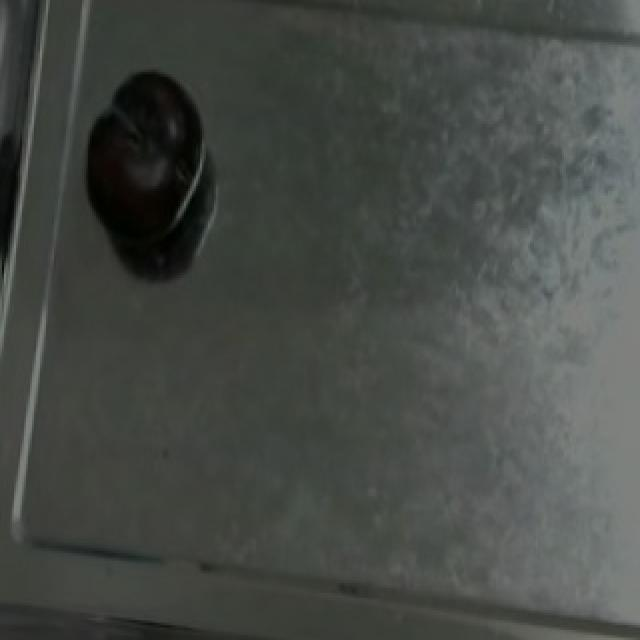Fruit: (74, 57, 210, 263)
